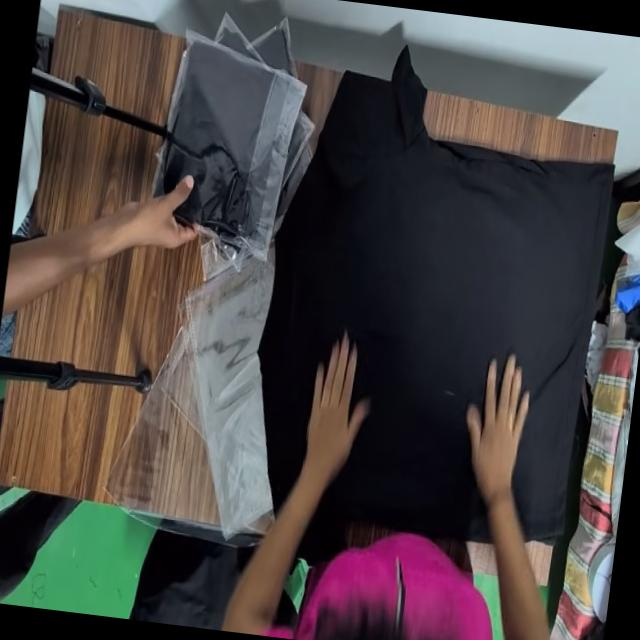new-garment: (258, 50, 611, 540)
